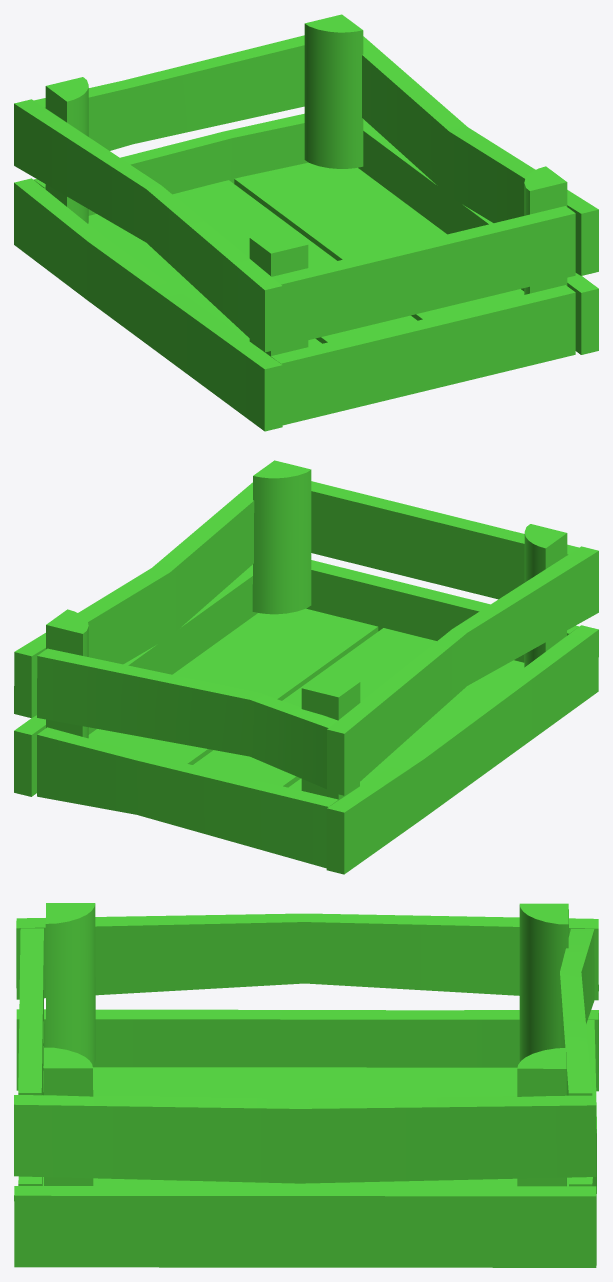
File: Fruit_Box_M.fbx
3 renders of one model, top to bottom at view 1: azimuth 30°, elevation 25°; view 2: azimuth 150°, elevation 25°; view 3: azimuth 270°, elevation 25°, orthographic. The views are drawn at different scales.
Visible parts, largest first — view 1: Wooden Fruit Box_LOD0; view 2: Wooden Fruit Box_LOD0; view 3: Wooden Fruit Box_LOD0.
Part boxes in pixels (left/top/right/bottom): Wooden Fruit Box_LOD0: left=14, top=14, right=598, bottom=431; Wooden Fruit Box_LOD0: left=14, top=460, right=598, bottom=874; Wooden Fruit Box_LOD0: left=14, top=903, right=598, bottom=1267.
Size of what is drawn, in the model's own units: 50.5 by 23.66 by 66.22.
